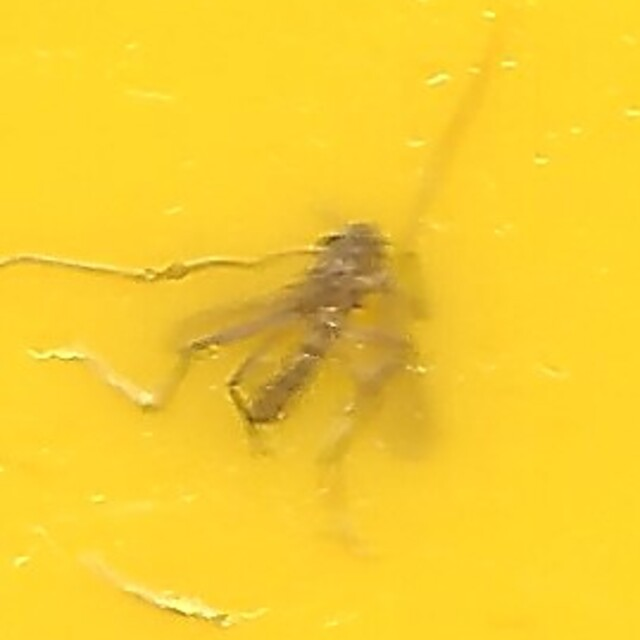Nematocera: (238, 213, 402, 427)
